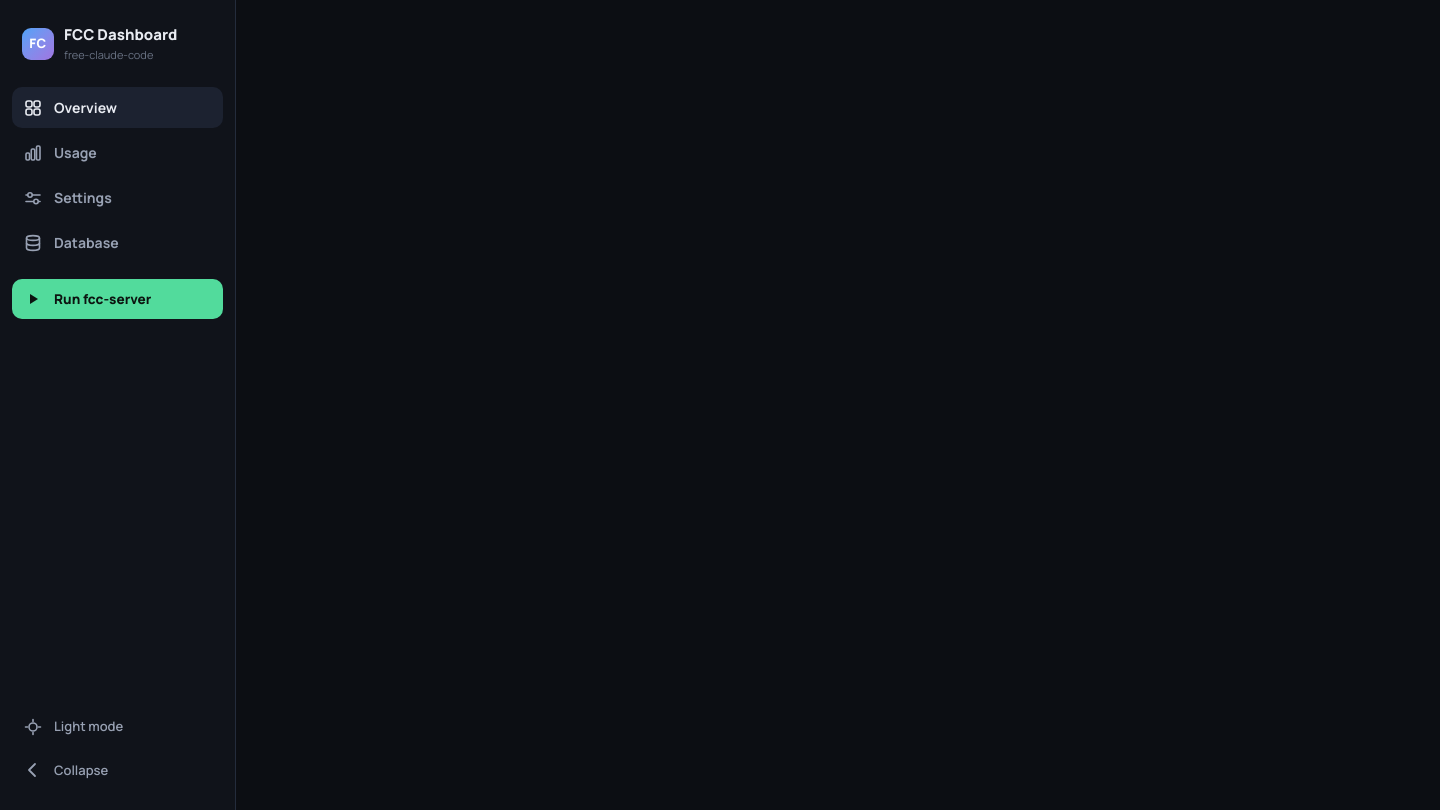
Test: Sidebar › shows "Run fcc-server" while FCC is down, and requires confirmation before starting it
Click the button "Run fcc-server": (118, 299) [12,279,223,319]
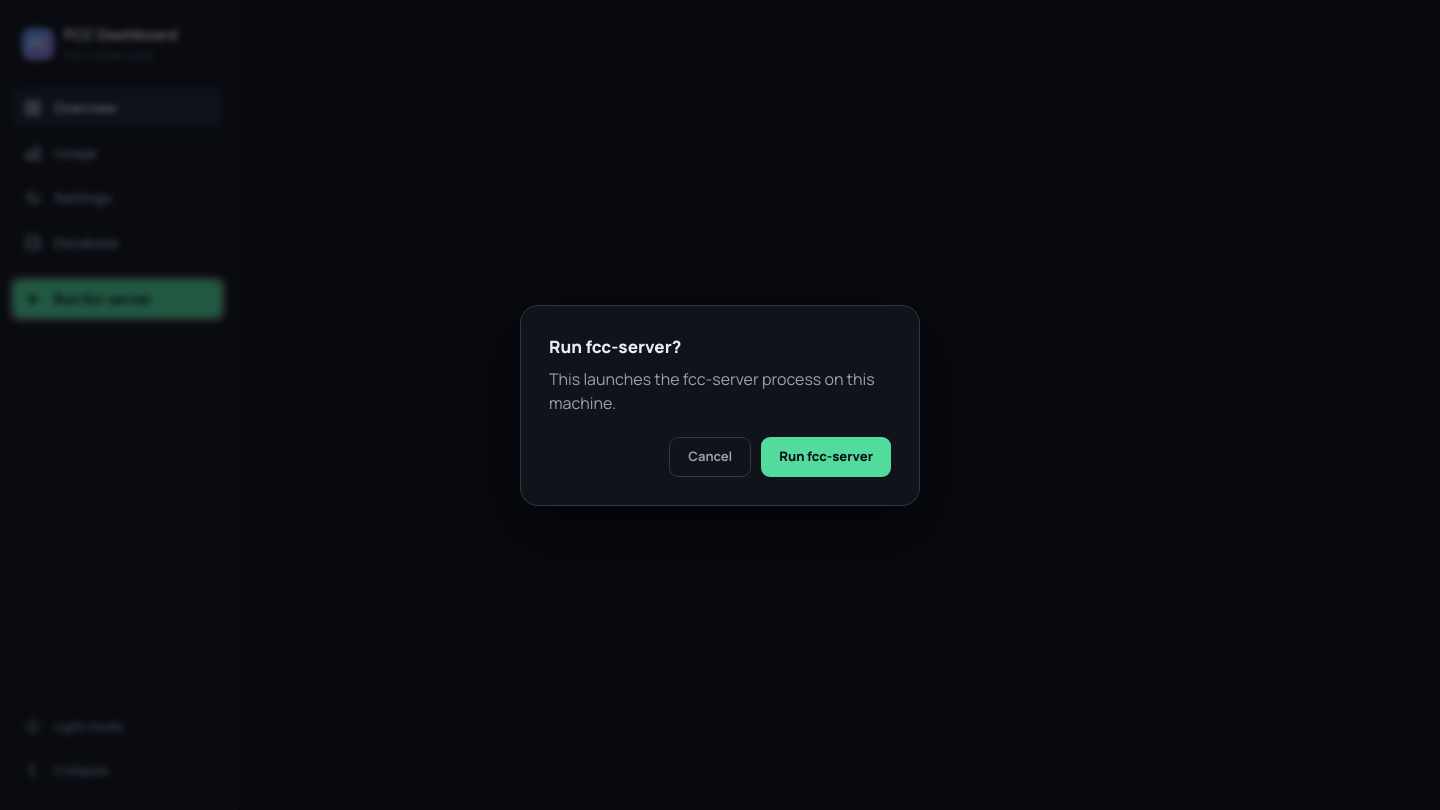
Click the button "Run fcc-server" below "Run fcc-server?": (826, 457) [761,437,891,476]
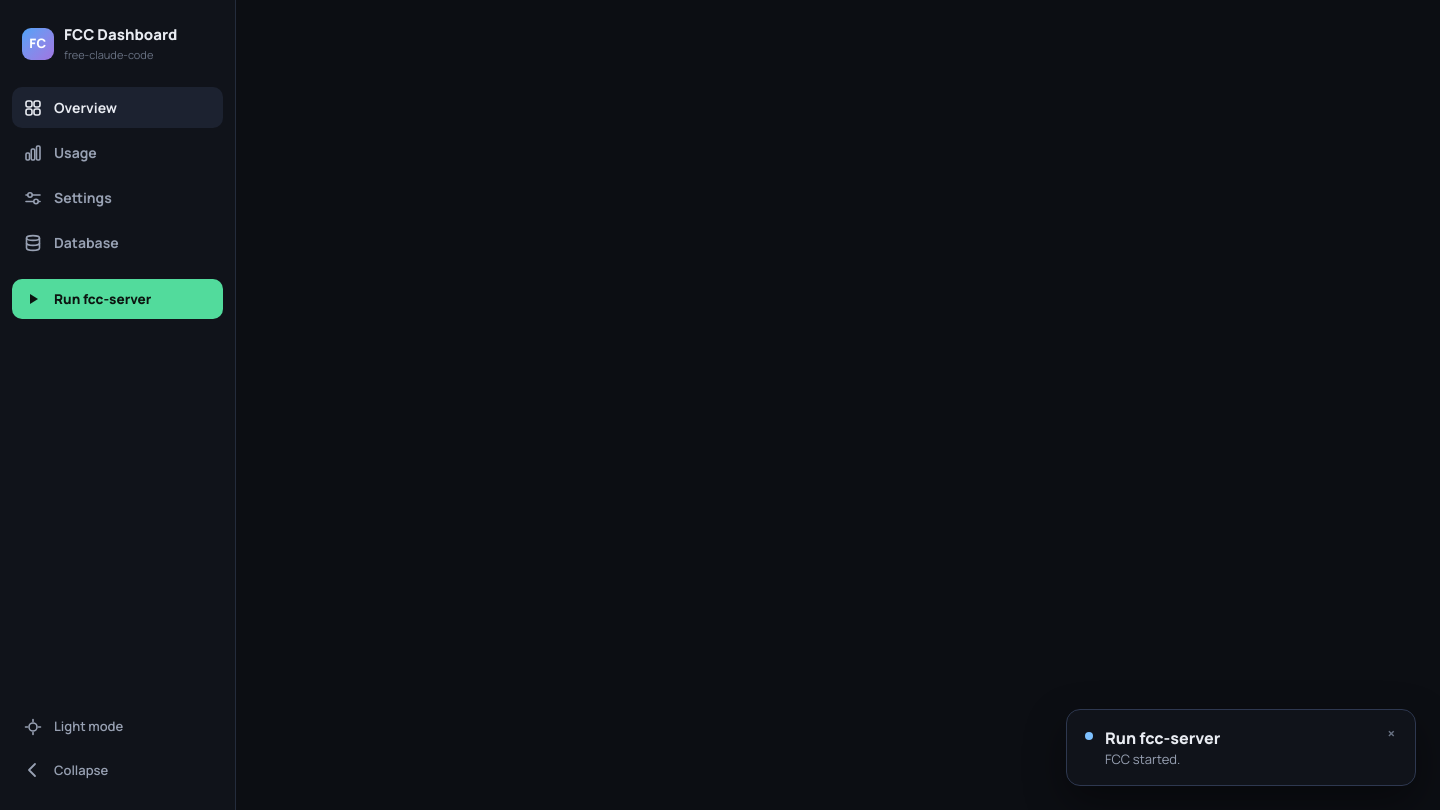
Check: the text "FCC started." is shown, box [1105,750,1180,768]
